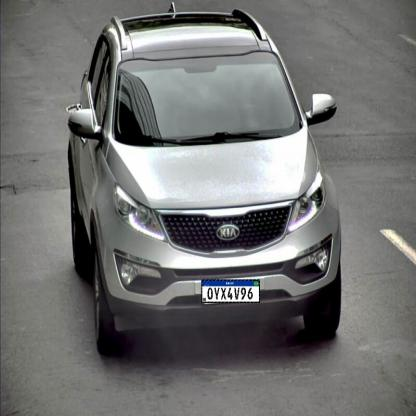PlacaM: (201, 279, 260, 303)
